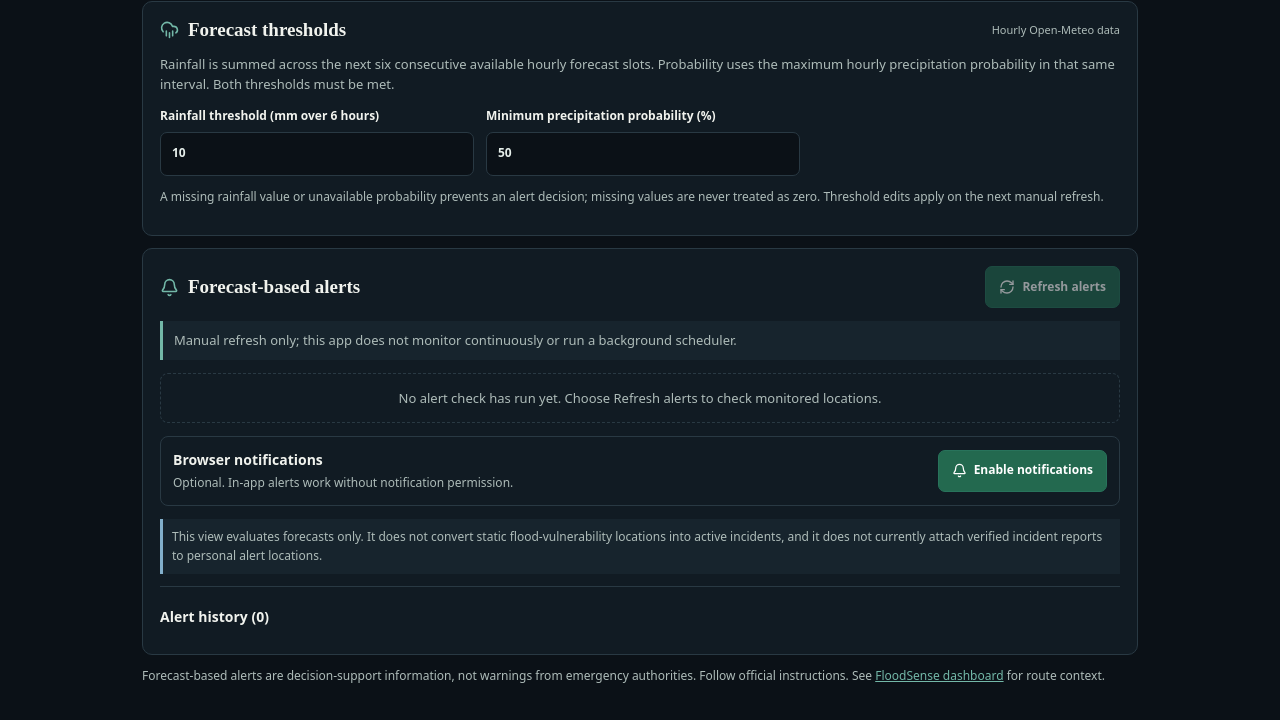
Test: Smart Flood Alerts › requests browser notification permission only after the user enables it and handles denial
(page scrolled)
Click the button "Enable notifications" at (1022, 471), box [938,450,1107,492]
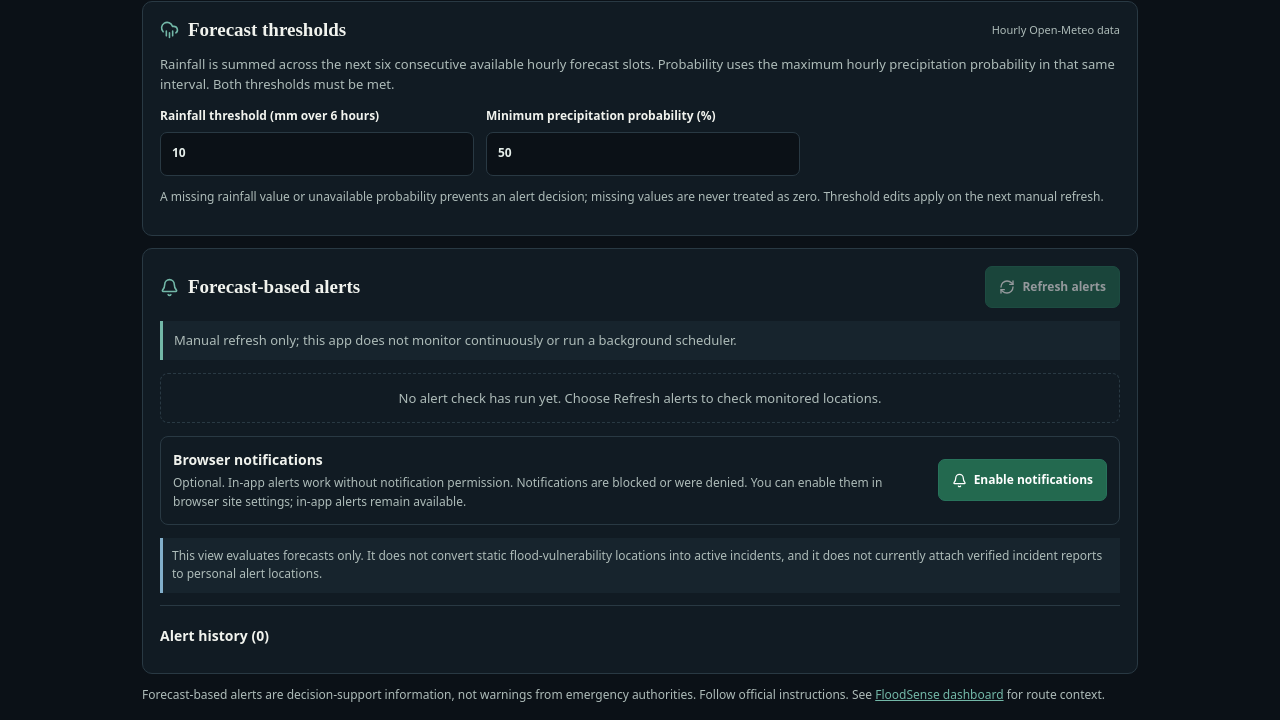
Now the text "Notifications are blocked or were denied" is shown, box [173,474,882,510]
